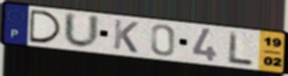0: (150, 23, 177, 57)
4: (191, 26, 219, 64)
D: (28, 8, 64, 45)
K: (112, 18, 140, 55)
L: (228, 30, 255, 67)
U: (63, 11, 102, 50)
